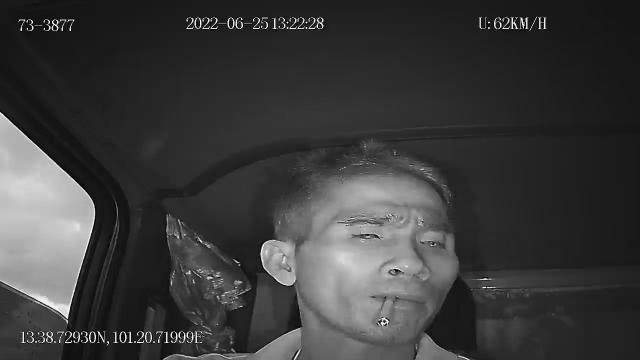SafeDriving: (409, 228, 454, 253), (344, 222, 390, 246)
Smoking: (376, 295, 394, 327)
